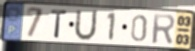0: (130, 14, 151, 43)
1: (105, 12, 117, 42)
7: (24, 6, 46, 40)
R: (151, 13, 177, 45)
T: (50, 9, 69, 40)
U: (72, 8, 99, 42)
